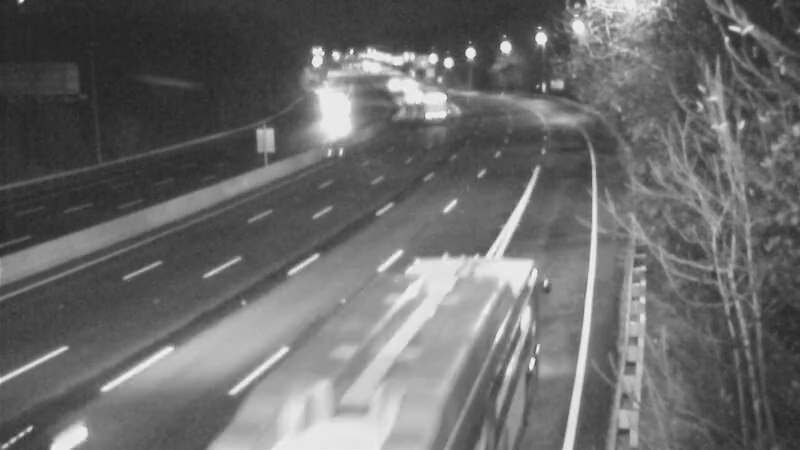vehicle: (342, 290, 452, 400), (382, 72, 432, 122), (403, 73, 453, 123), (306, 86, 356, 136)
